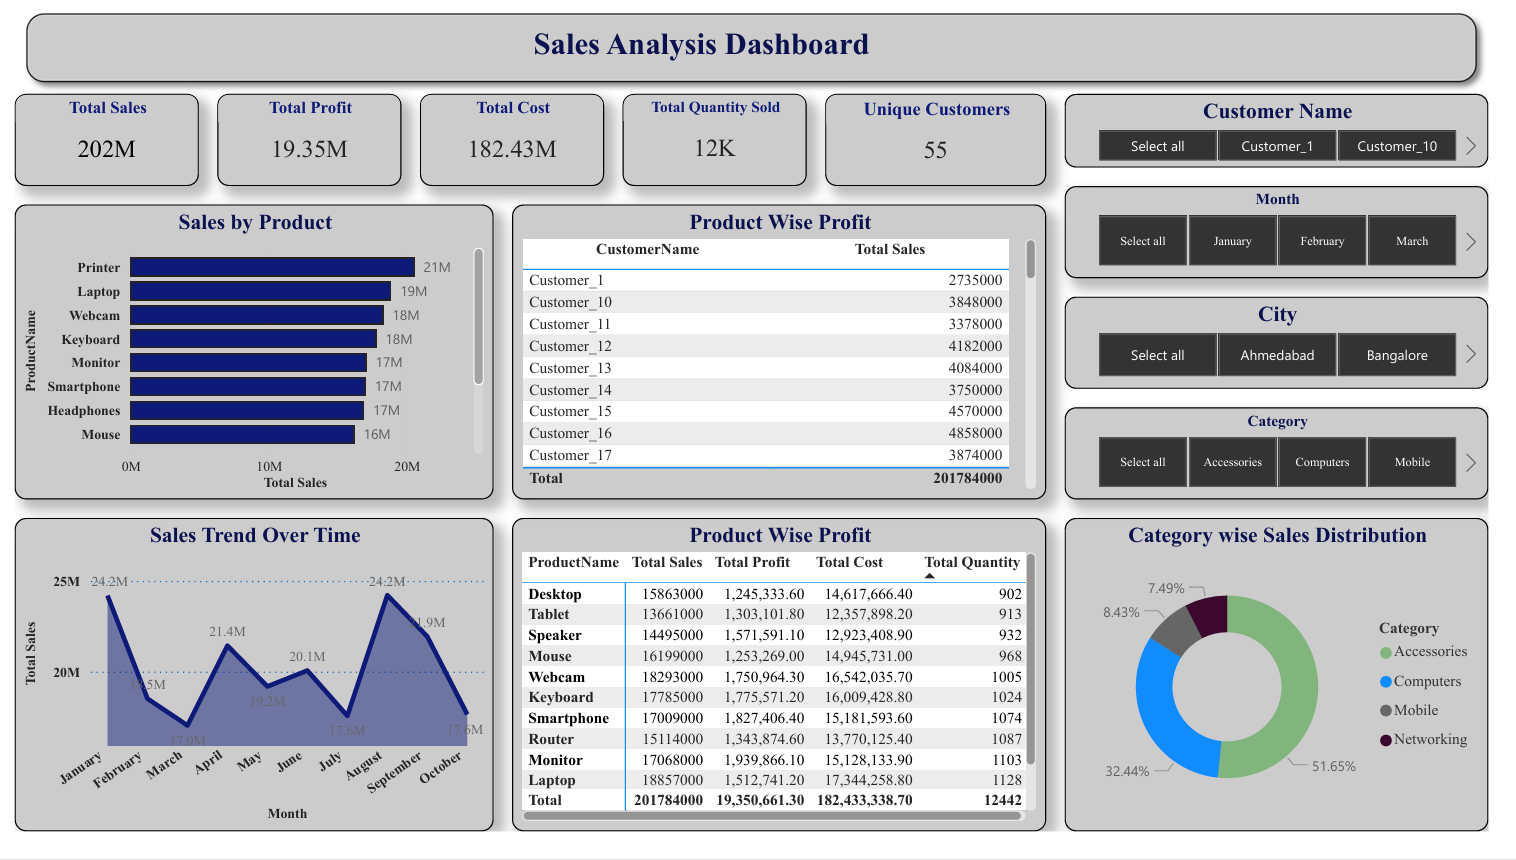

What the dashboard file says about the page in this screenshot:
{"tool":"powerbi","page":{"name":"Page 1","canvas":[1280,720],"ordinal":0},"visuals":[{"type":"card","title":"Total Sales","fields":{"Values":["Sales.Total Sales"]},"box":[0,80,160,80],"z":0},{"type":"shape","box":[0,0,1280,80],"z":1000},{"type":"textbox","box":[144,16,912,48],"z":2000},{"type":"card","title":"Total Profit","fields":{"Values":["Sales.Total Profit"]},"box":[176,80,160,80],"z":3000},{"type":"card","title":"Total Cost","fields":{"Values":["Sales.Total Cost"]},"box":[352,80,160,80],"z":4000},{"type":"card","title":"Total Quantity Sold","fields":{"Values":["Sales.Total Quantity"]},"box":[528,80,160,80],"z":5000},{"type":"card","title":"Unique Customers","fields":{"Values":["Sales.Unique Customers"]},"box":[704,80,192,80],"z":6000},{"type":"clusteredBarChart","title":"Sales by Product","fields":{"Y":["Sales.Total Sales"],"Category":["Products.ProductName"]},"box":[0,176,416,256],"z":7000},{"type":"lineChart","title":"Sales Trend Over Time","fields":{"Category":["Sales.Date.Variation.Date Hierarchy.Month"],"Y":["Sales.Total Sales"]},"box":[0,448,416,272],"z":8000},{"type":"donutChart","title":"Category wise Sales Distribution","fields":{"Category":["Products.Category"],"Y":["Sales.Total Sales"]},"box":[912,448,368,272],"z":9000},{"type":"pivotTable","title":"Product Wise  Profit","fields":{"Rows":["Products.ProductName"],"Values":["Sales.Total Sales","Sales.Total Profit","Sales.Total Cost","Sales.Total Quantity"]},"box":[432,448,464,272],"z":10000},{"type":"tableEx","title":"Product Wise  Profit","fields":{"Values":["Customers.CustomerName","Sales.Total Sales"]},"box":[432,176,464,256],"z":11000},{"type":"slicer","title":"Category","fields":{"Values":["Products.Category"]},"box":[912,352,368,80],"z":12000},{"type":"slicer","title":"Month","fields":{"Values":["Sales.Date.Variation.Date Hierarchy.Month"]},"box":[912,160,368,80],"z":13000},{"type":"slicer","title":"City","fields":{"Values":["Customers.City"]},"box":[912,256,368,80],"z":14000},{"type":"slicer","title":"Customer Name","fields":{"Values":["Customers.CustomerName"]},"box":[912,80,368,64],"z":15000}]}

Visuals, with their boxes in screenshot pixels (x1, y1, x2, y2), scaled from the page's 1280x720 canvas onto the 1516x860 screenshot:
"Total Sales" card: select_region(0, 96, 190, 191)
shape: select_region(0, 0, 1515, 96)
textbox: select_region(171, 19, 1251, 76)
"Total Profit" card: select_region(208, 96, 398, 191)
"Total Cost" card: select_region(417, 96, 606, 191)
"Total Quantity Sold" card: select_region(625, 96, 815, 191)
"Unique Customers" card: select_region(834, 96, 1061, 191)
"Sales by Product" clusteredBarChart: select_region(0, 210, 493, 516)
"Sales Trend Over Time" lineChart: select_region(0, 535, 493, 859)
"Category wise Sales Distribution" donutChart: select_region(1080, 535, 1515, 859)
"Product Wise  Profit" pivotTable: select_region(512, 535, 1061, 859)
"Product Wise  Profit" tableEx: select_region(512, 210, 1061, 516)
"Category" slicer: select_region(1080, 420, 1515, 516)
"Month" slicer: select_region(1080, 191, 1515, 287)
"City" slicer: select_region(1080, 306, 1515, 401)
"Customer Name" slicer: select_region(1080, 96, 1515, 172)
